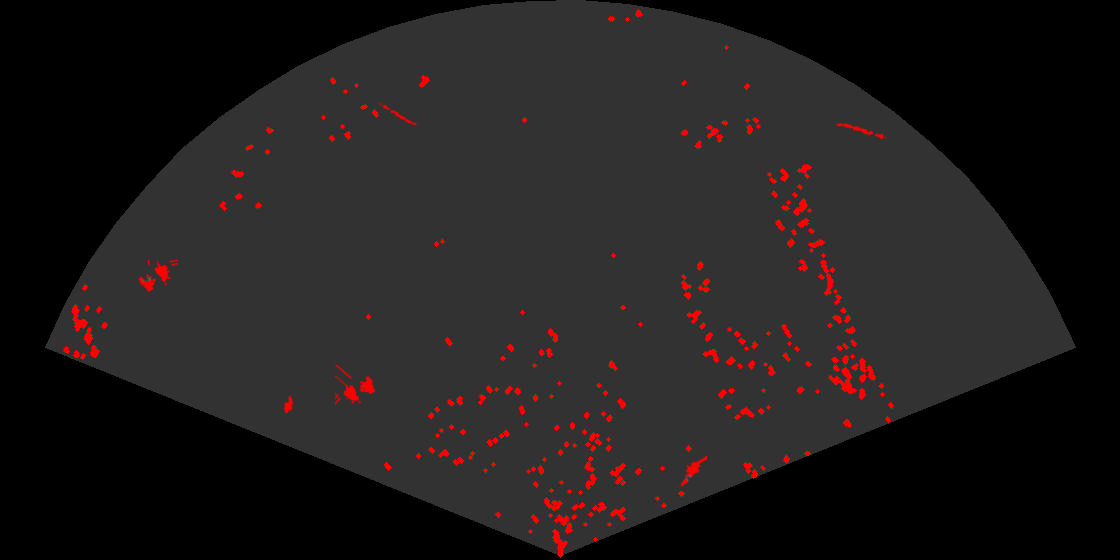AUV: (282, 394, 293, 415)
cage: (335, 365, 377, 407), (137, 260, 178, 293)
chain: (834, 121, 887, 141), (378, 102, 418, 128)
frogman: (676, 456, 707, 488)
